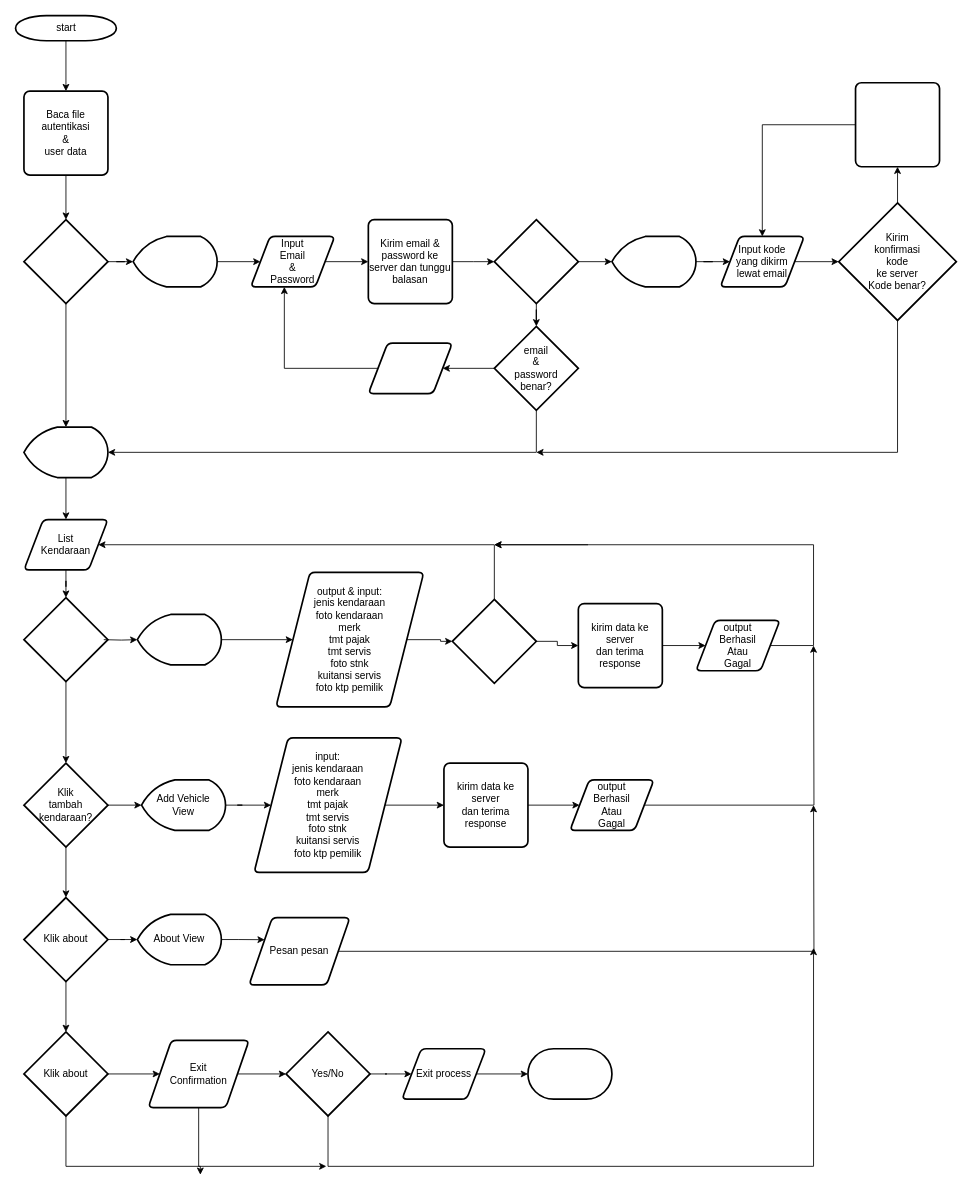
Some shapes in this 971 by 1196 pixel diagram are drawn without their labels. Here are the shapes that lost their labels. From the top down, the centre of each, then its label:
At point 897,124: "Tunggu 5 detik".
At point 65,261: "File ada dan data valid?".
At point 175,261: "Auth View".
At point 536,261: "User baru?".
At point 653,261: "Email Confirmation View".
At point 410,368: "Notif Password Salah".
At point 65,452: "Hove View".
At point 65,639: "Klik pada kendaraan?".
At point 179,639: "Edit Vehicle View".
At point 494,641: "Tombol simpan dipencet?".
At point 569,1073: "Stop".
